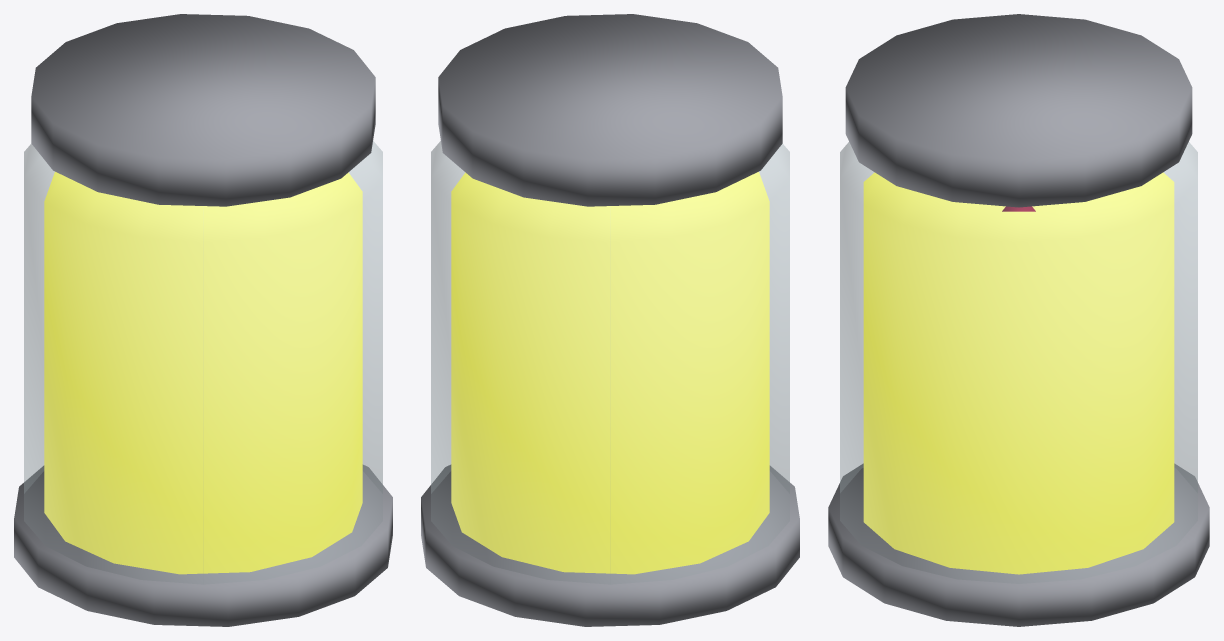
Rendered from specimen_jar_heart.glb.
3 renders of one model, left to right at view 1: azimuth 30°, elevation 25°; view 2: azimuth 150°, elevation 25°; view 3: azimuth 270°, elevation 25°, orthographic.
Parts seen in each view (by area): view 1: GD_specimen_jar_heart__m0, GD_specimen_jar_heart__m1, GD_specimen_jar_heart__m2; view 2: GD_specimen_jar_heart__m0, GD_specimen_jar_heart__m1, GD_specimen_jar_heart__m2; view 3: GD_specimen_jar_heart__m0, GD_specimen_jar_heart__m1, GD_specimen_jar_heart__m2.
Boxes of the visible parts, x1,y1,x2,y2 form: GD_specimen_jar_heart__m0: [24, 141, 382, 584]; GD_specimen_jar_heart__m1: [44, 172, 362, 574]; GD_specimen_jar_heart__m2: [14, 14, 392, 626]; GD_specimen_jar_heart__m0: [431, 141, 789, 584]; GD_specimen_jar_heart__m1: [451, 172, 769, 574]; GD_specimen_jar_heart__m2: [421, 14, 799, 626]; GD_specimen_jar_heart__m0: [840, 142, 1197, 583]; GD_specimen_jar_heart__m1: [863, 172, 1174, 574]; GD_specimen_jar_heart__m2: [828, 14, 1209, 626].
Size of the model in its own units: 0.22 by 0.2925 by 0.22.
